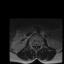CCS_stenosis: (35, 43, 37, 49)
LFS_stenosis: (38, 42, 40, 47)
LLS_stenosis: (37, 42, 38, 47)
RFS_stenosis: (32, 42, 34, 47)
RLS_stenosis: (34, 43, 35, 47)
